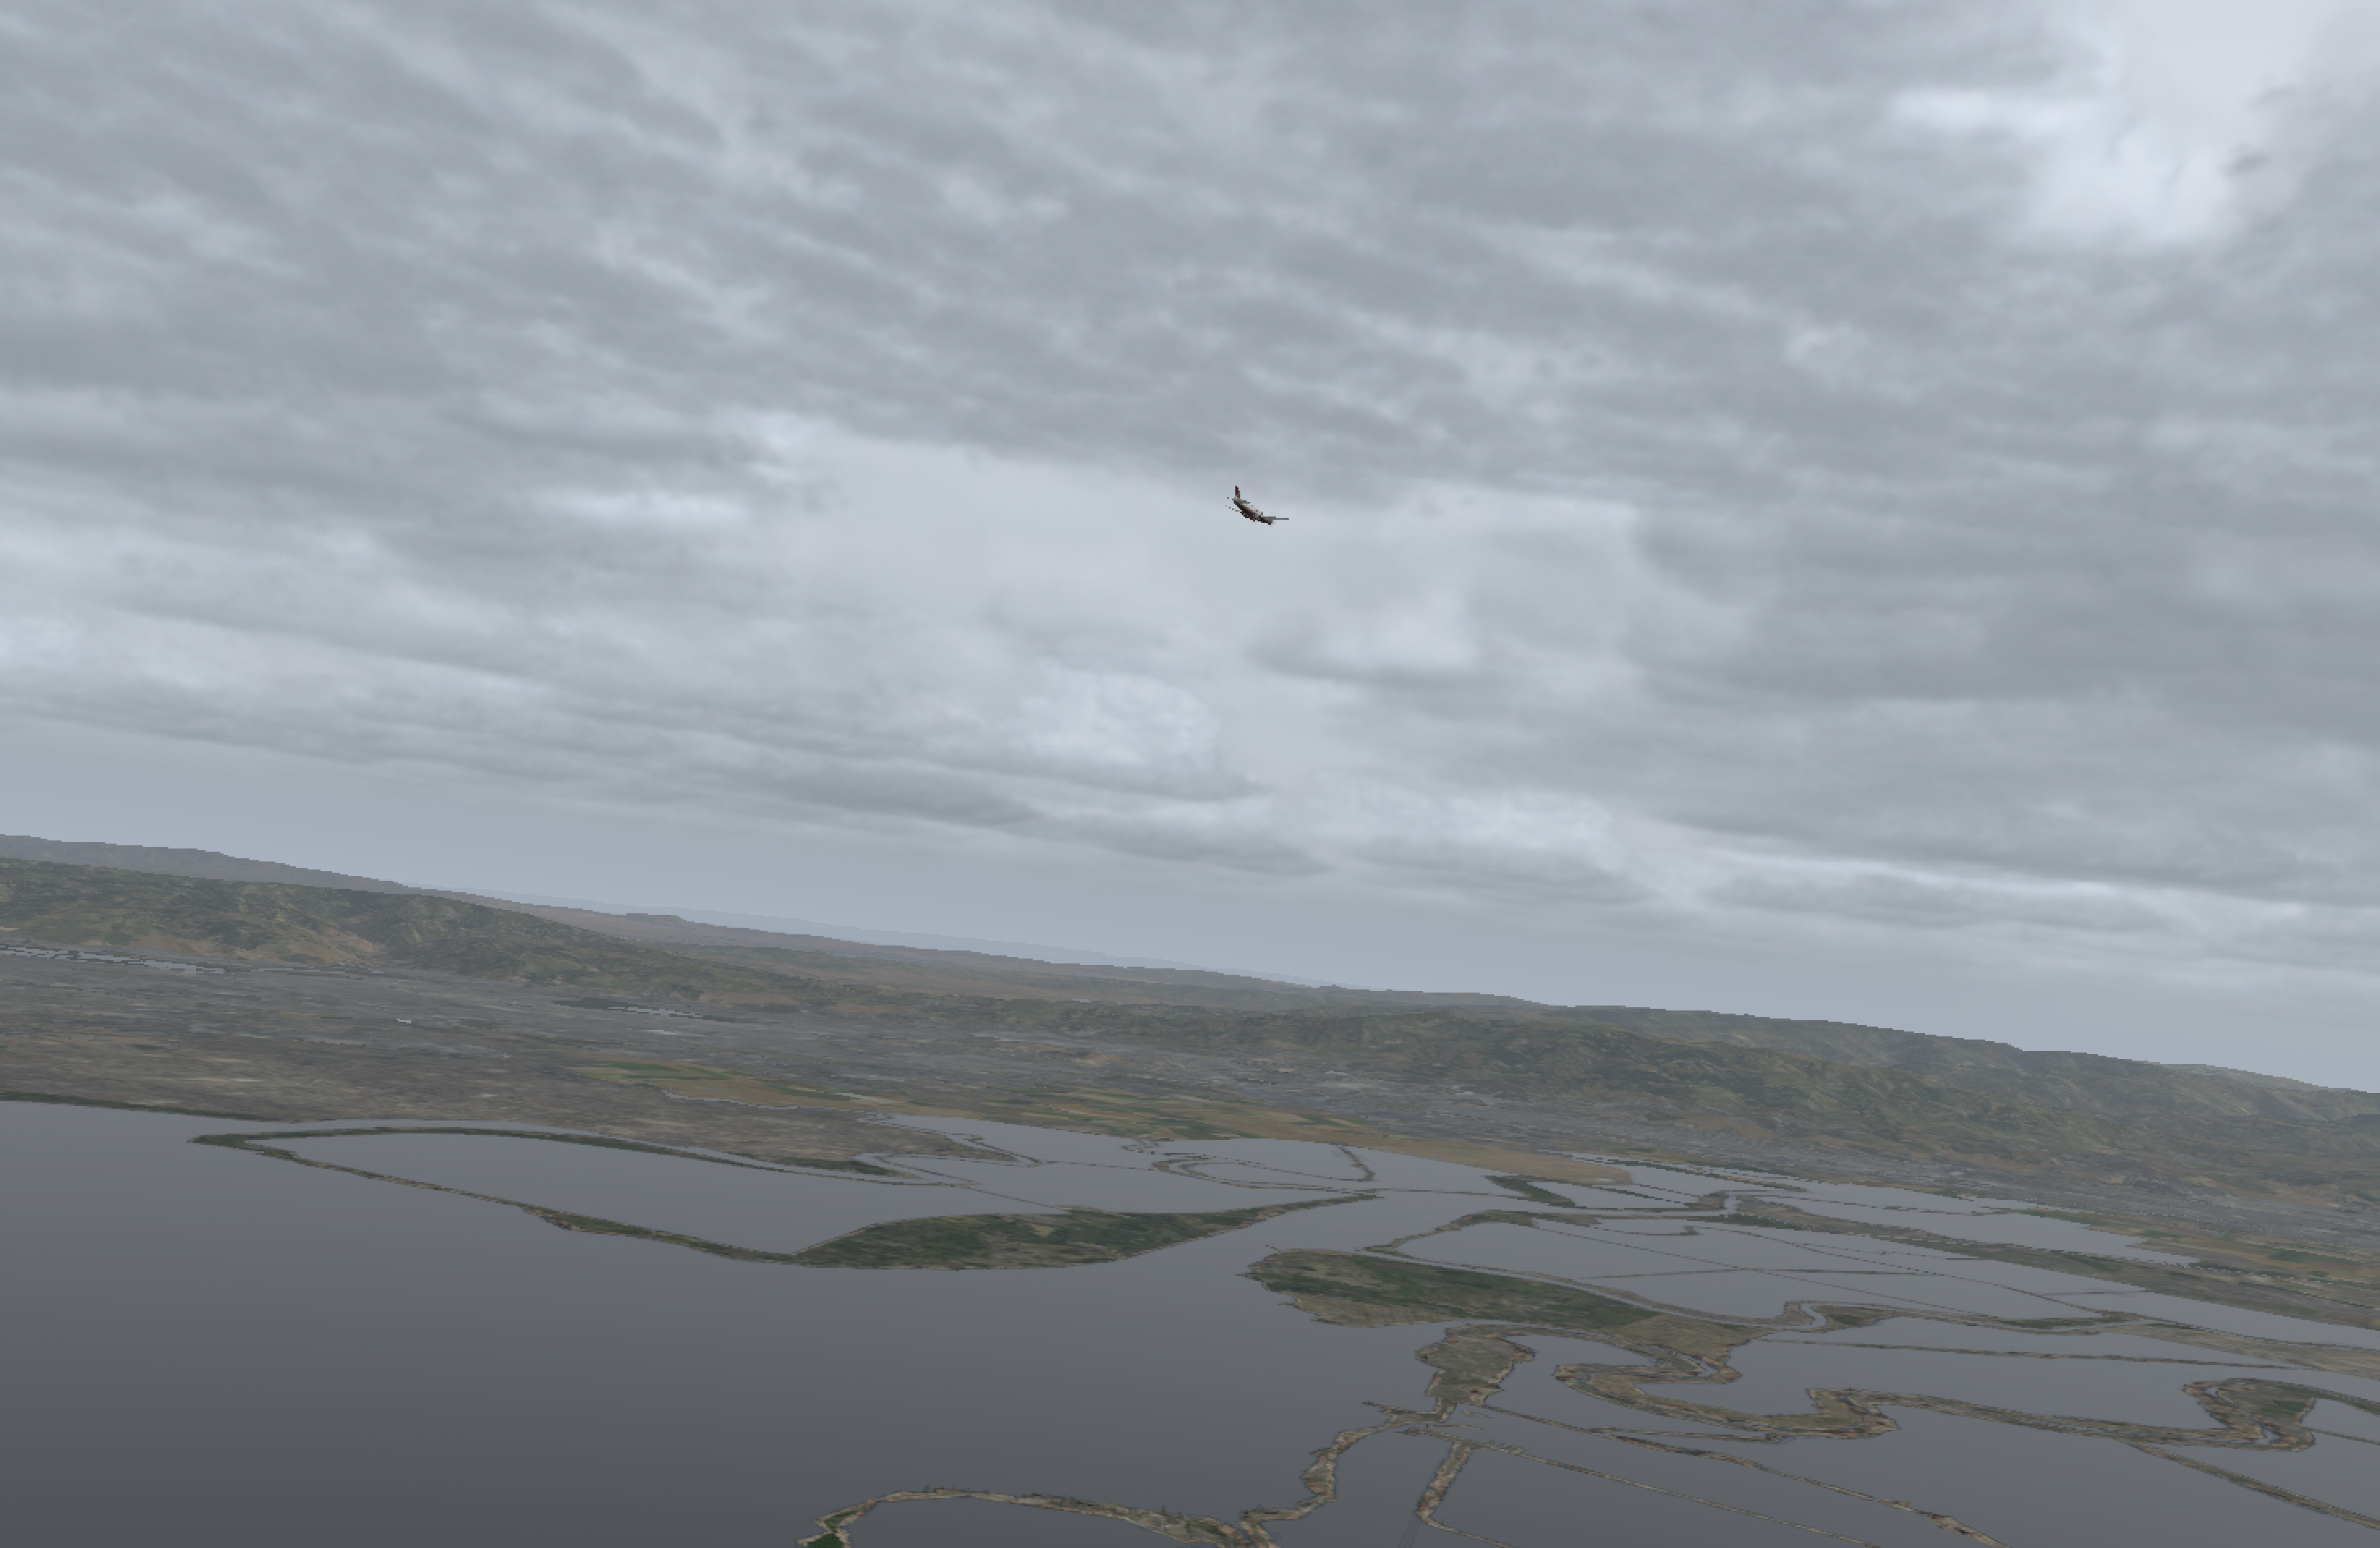aircraft: (1209, 502, 1299, 535)
